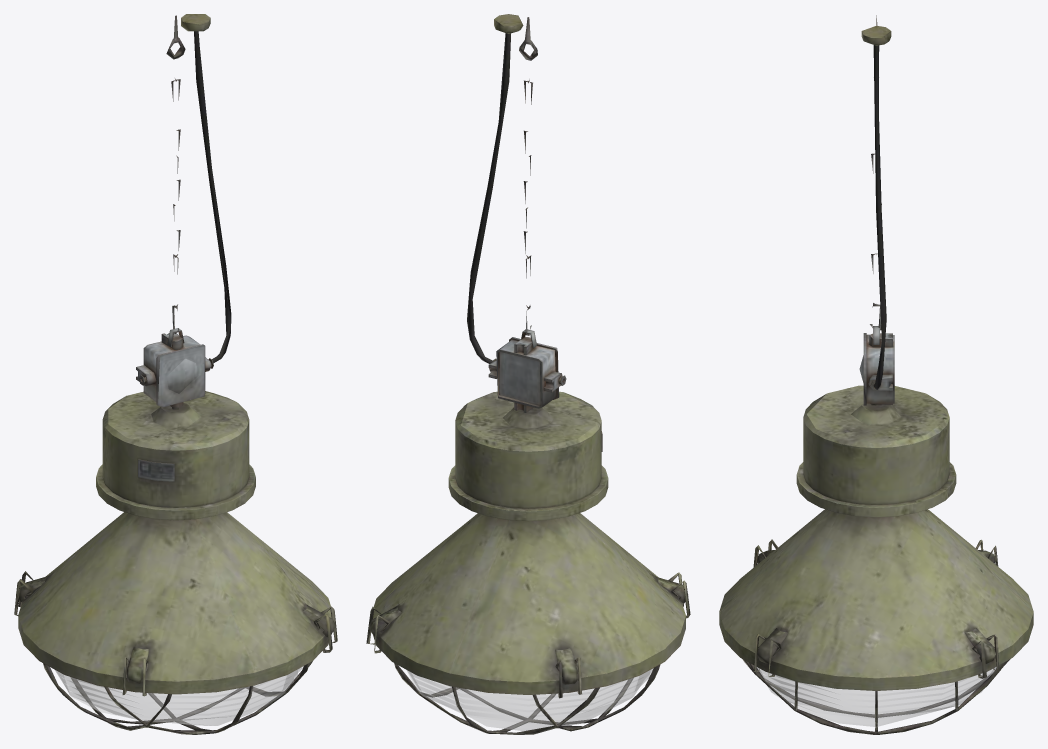
Rendered from hanging_industrial_lamp.glb.
3 views of the same model, side by side, from view 1: azimuth 30°, elevation 25°; view 2: azimuth 150°, elevation 25°; view 3: azimuth 270°, elevation 25° (orthographic).
Parts seen in each view (by area): view 1: hanging_industrial_lamp; view 2: hanging_industrial_lamp; view 3: hanging_industrial_lamp.
Boxes of the visible parts, x1,y1,x2,y2 form: hanging_industrial_lamp: (14,14,337,734); hanging_industrial_lamp: (366,14,690,734); hanging_industrial_lamp: (719,15,1033,734).
Bounding box in the file's own units: 0.5496 × 1.36 × 0.5496.
2 materials, 1 textured.
